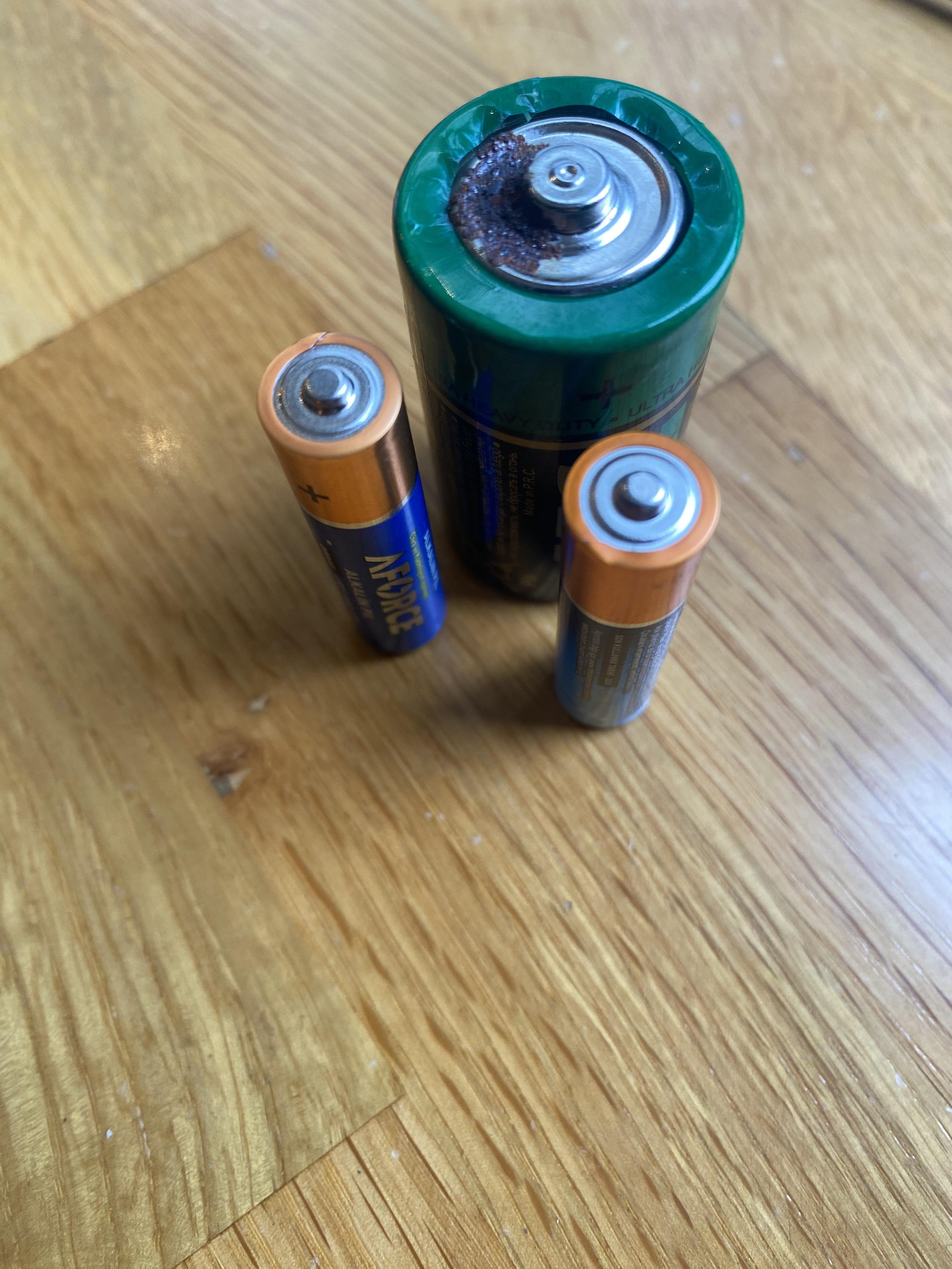AA: (250, 323, 454, 662), (549, 427, 728, 735)
